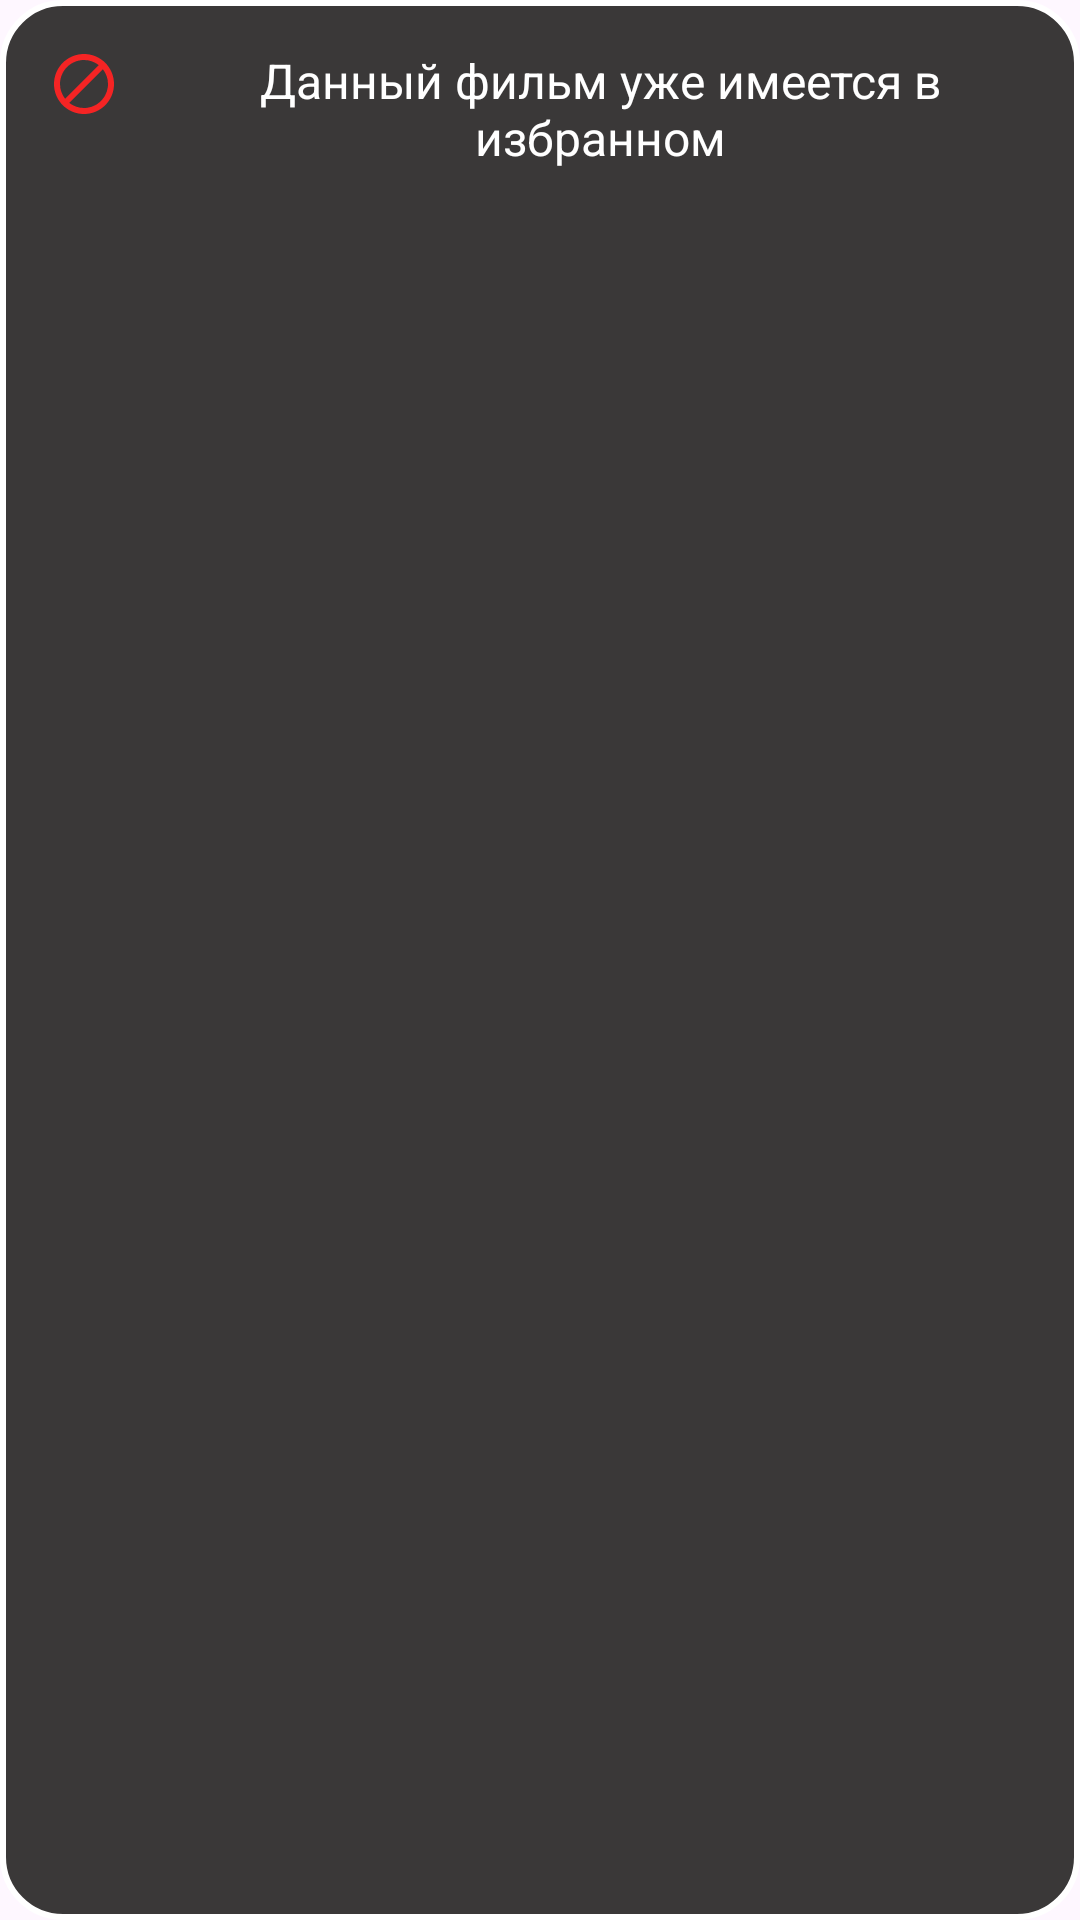

Point at icon controls on the screen. Image size 1080w x 1920h, points as (x,y).
block: (84,84)
